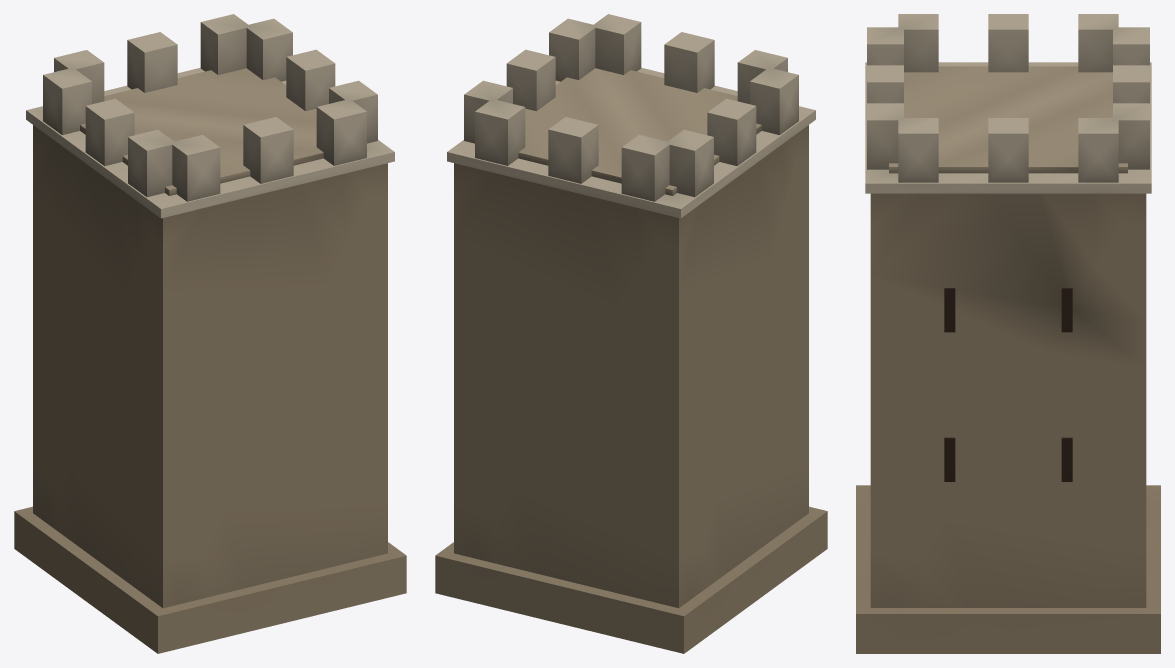
The model's file is wall-tower.glb.
3 views of the same model, side by side, from view 1: azimuth 30°, elevation 25°; view 2: azimuth 150°, elevation 25°; view 3: azimuth 270°, elevation 25° (orthographic). The views are drawn at different scales.
Parts seen in each view (by area): view 1: base; view 2: base; view 3: base.
Boxes of the visible parts, bbox=[...] form: base: bbox=[14, 14, 406, 653]; base: bbox=[435, 14, 827, 653]; base: bbox=[856, 14, 1160, 653].
Size of the model in its own units: 8.3 by 15.5 by 8.3.
